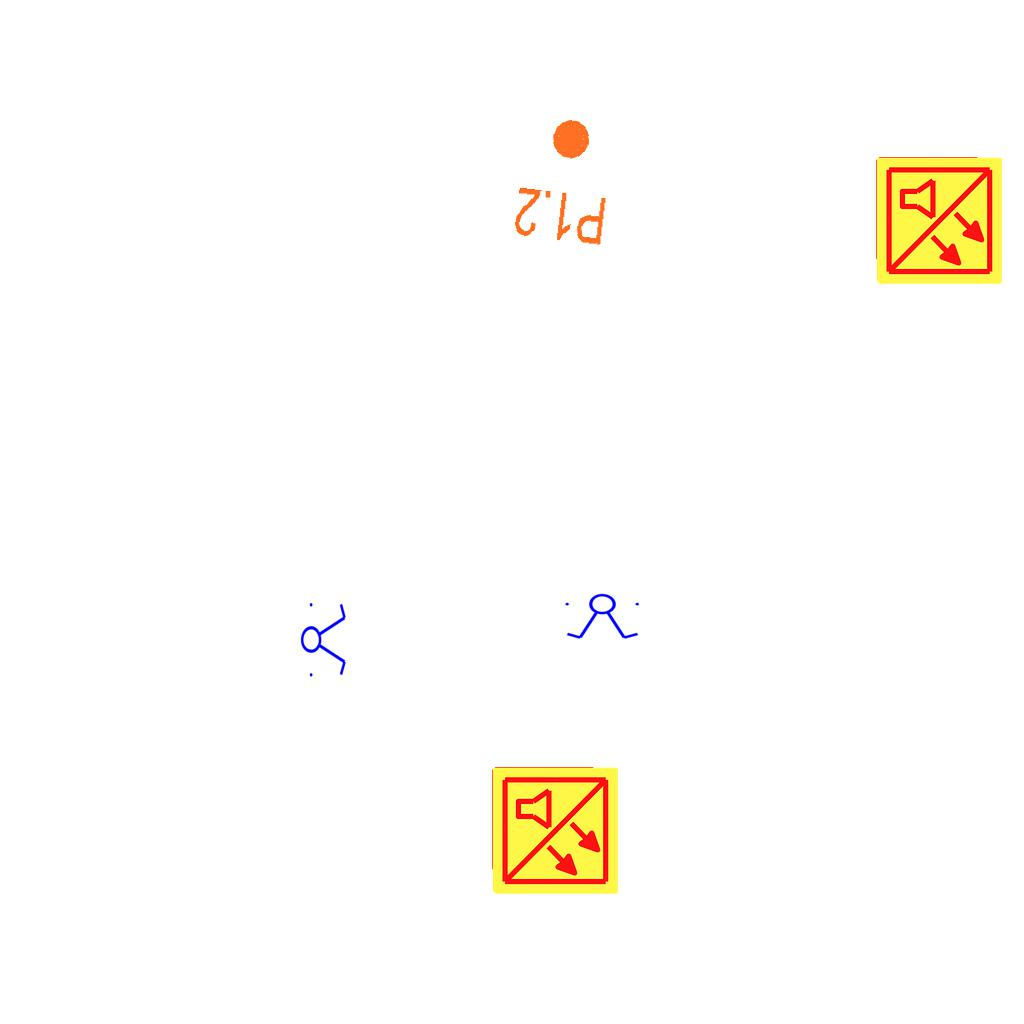Downlight_LED_Einbauleuchten_Flur: (510, 110, 619, 250)
OKW_Multisensormelder_(Kombination_optischer_Rauch-Kahlenmonoxid_Waerme-Melder): (873, 155, 1005, 287), (489, 765, 621, 897)
Serienschalter: (300, 597, 348, 681), (561, 593, 645, 641)
